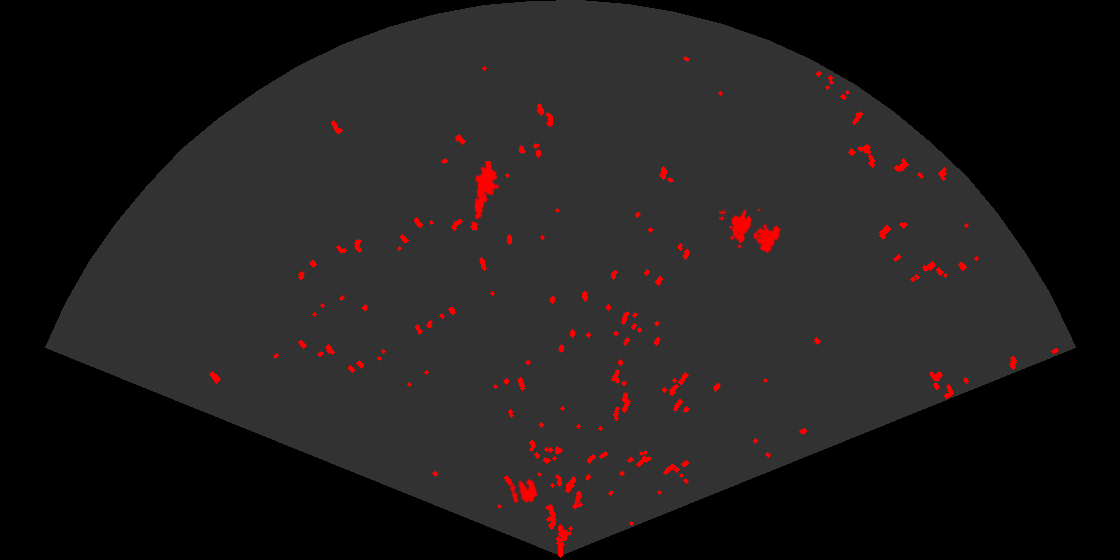ball: (508, 477, 539, 505)
cage: (719, 209, 783, 255)
frogman: (473, 161, 501, 220)
